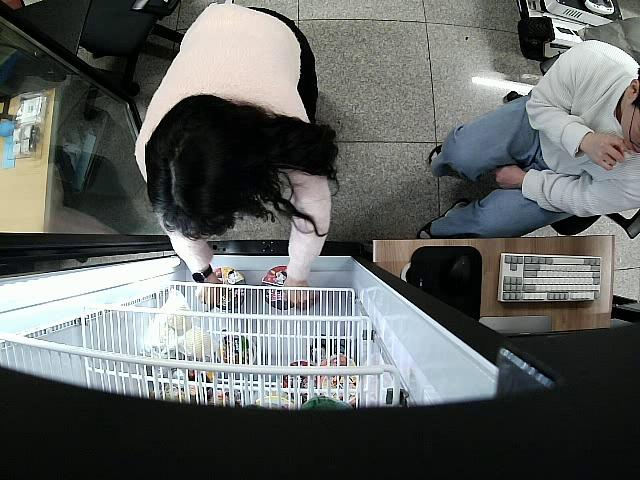00_hand: (283, 280, 317, 312), (197, 279, 229, 311)
07_buldak_L: (211, 265, 248, 311), (262, 266, 301, 309)
